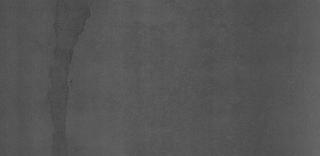water spot: (41, 4, 90, 150)
